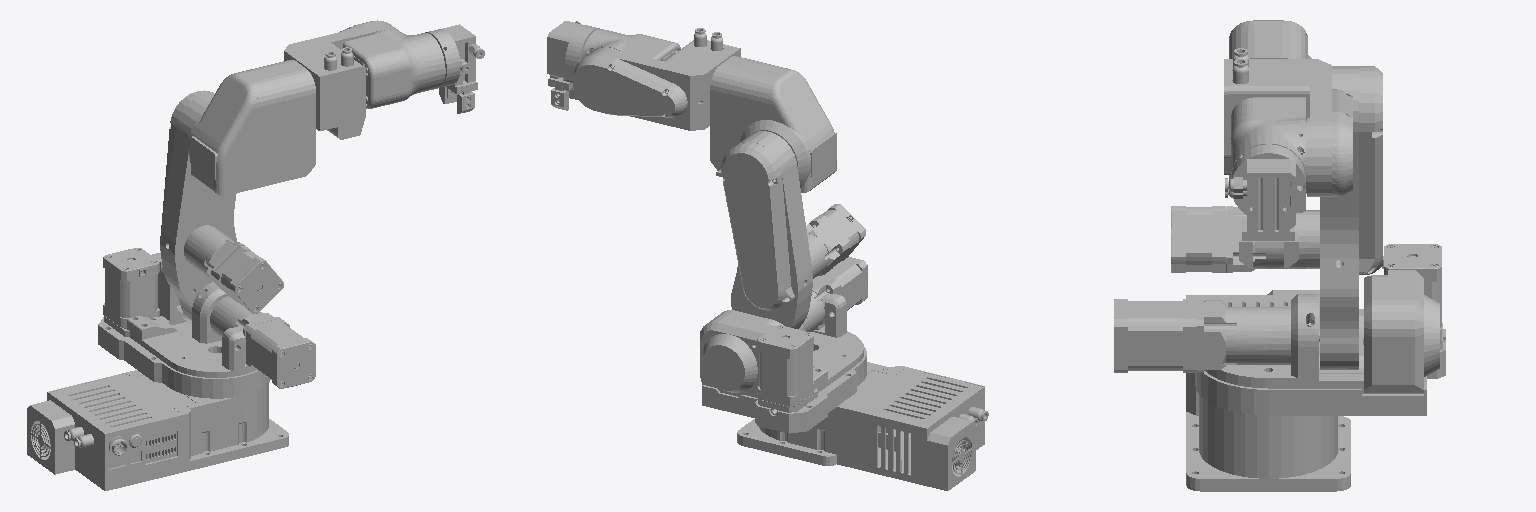
robot.urdf — PAROL6:
<?xml version="1.0" encoding="utf-8"?>
<!-- This URDF was automatically created by SolidWorks to URDF Exporter! Originally created by [author] ([email redacted]) 
     Commit Version: 1.6.0-4-g7f85cfe  Build Version: 1.6.7995.38578
     For more information, please see http://wiki.ros.org/sw_urdf_exporter -->
<robot
  name="PAROL6">
  <link
    name="base_link">
    <inertial>
      <origin
        xyz="-0.0274562034602567 -0.00137265400595656 0.031237920982338"
        rpy="0 0 0" />
      <mass
        value="0.812661291810144" />
      <inertia
        ixx="0.00110740279540382"
        ixy="4.67463481205112E-05"
        ixz="8.47873933528831E-06"
        iyy="0.00106582362830227"
        iyz="-2.6194130573118E-06"
        izz="0.00147883396699374" />
    </inertial>
    <visual>
      <origin
        xyz="0 0 0"
        rpy="0 0 0" />
      <geometry>
        <mesh
          filename="package://PAROL6/meshes/base_link.STL" />
      </geometry>
      <material
        name="">
        <color
          rgba="0.752941176470588 0.752941176470588 0.752941176470588 1" />
      </material>
    </visual>
    <collision>
      <origin
        xyz="0 0 0"
        rpy="0 0 0" />
      <geometry>
        <mesh
          filename="package://PAROL6/meshes/base_link.STL" />
      </geometry>
    </collision>
  </link>
  <link
    name="L1">
    <inertial>
      <origin
        xyz="0.00524529891406311 0.0289722820784871 0.0992791429452917"
        rpy="0 0 0" />
      <mass
        value="0.644800830530233" />
      <inertia
        ixx="0.00109429409029172"
        ixy="-6.27156874097953E-05"
        ixz="-5.70466862844753E-05"
        iyy="0.00056996197700816"
        iyz="-0.000121686402940313"
        izz="0.00129487722474286" />
    </inertial>
    <visual>
      <origin
        xyz="0 0 0"
        rpy="0 0 0" />
      <geometry>
        <mesh
          filename="package://PAROL6/meshes/L1.STL" />
      </geometry>
      <material
        name="">
        <color
          rgba="0.752941176470588 0.752941176470588 0.752941176470588 1" />
      </material>
    </visual>
    <collision>
      <origin
        xyz="0 0 0"
        rpy="0 0 0" />
      <geometry>
        <mesh
          filename="package://PAROL6/meshes/L1.STL" />
      </geometry>
    </collision>
  </link>
  <joint
    name="L1"
    type="revolute">
    <origin
      xyz="0 0 0"
      rpy="0 0 0" />
    <parent
      link="base_link" />
    <child
      link="L1" />
    <axis
      xyz="0 0 1" />
    <limit
      lower="0"
      upper="0"
      effort="0"
      velocity="0" />
  </joint>
  <link
    name="L2">
    <inertial>
      <origin
        xyz="-0.0094181617193695 -0.0783879603613605 0.0369429741417731"
        rpy="0 0 0" />
      <mass
        value="0.512334779399788" />
      <inertia
        ixx="0.00123357482646866"
        ixy="3.63236238096924E-06"
        ixz="-3.30834557934783E-07"
        iyy="0.000205462733796053"
        iyz="4.86441772103282E-07"
        izz="0.00132225033266162" />
    </inertial>
    <visual>
      <origin
        xyz="0 0 0"
        rpy="0 0 0" />
      <geometry>
        <mesh
          filename="package://PAROL6/meshes/L2.STL" />
      </geometry>
      <material
        name="">
        <color
          rgba="0.752941176470588 0.752941176470588 0.752941176470588 1" />
      </material>
    </visual>
    <collision>
      <origin
        xyz="0 0 0"
        rpy="0 0 0" />
      <geometry>
        <mesh
          filename="package://PAROL6/meshes/L2.STL" />
      </geometry>
    </collision>
  </link>
  <joint
    name="L2"
    type="revolute">
    <origin
      xyz="0.0234207210610375 0 0.1105"
      rpy="-1.5707963267949 0 0" />
    <parent
      link="L1" />
    <child
      link="L2" />
    <axis
      xyz="0 0 1" />
    <limit
      lower="0"
      upper="0"
      effort="0"
      velocity="0" />
  </joint>
  <link
    name="L3">
    <inertial>
      <origin
        xyz="0.0155509885239593 -0.0191127686426613 -0.00153322577917236"
        rpy="0 0 0" />
      <mass
        value="0.550970997806044" />
      <inertia
        ixx="0.00057827573271994"
        ixy="0.000116505232322314"
        ixz="-1.19955293256513E-05"
        iyy="0.000567011676944701"
        iyz="1.55814255036021E-05"
        izz="0.000815862001506843" />
    </inertial>
    <visual>
      <origin
        xyz="0 0 0"
        rpy="0 0 0" />
      <geometry>
        <mesh
          filename="package://PAROL6/meshes/L3.STL" />
      </geometry>
      <material
        name="">
        <color
          rgba="0.752941176470588 0.752941176470588 0.752941176470588 1" />
      </material>
    </visual>
    <collision>
      <origin
        xyz="0 0 0"
        rpy="0 0 0" />
      <geometry>
        <mesh
          filename="package://PAROL6/meshes/L3.STL" />
      </geometry>
    </collision>
  </link>
  <joint
    name="L3"
    type="revolute">
    <origin
      xyz="0 -0.18 0"
      rpy="3.1416 0 -1.5708" />
    <parent
      link="L2" />
    <child
      link="L3" />
    <axis
      xyz="0 0 -1" />
    <limit
      lower="0"
      upper="0"
      effort="0"
      velocity="0" />
  </joint>
  <link
    name="L4">
    <inertial>
      <origin
        xyz="0.000947028430634433 -0.008978947112462 -0.0924798659827059"
        rpy="0 0 0" />
      <mass
        value="0.39346362633915" />
      <inertia
        ixx="0.000371672516830215"
        ixy="-1.05560000666389E-05"
        ixz="-1.56899445418326E-07"
        iyy="0.000332364226344361"
        iyz="-6.10397110934672E-05"
        izz="0.000250606789571909" />
    </inertial>
    <visual>
      <origin
        xyz="0 0 0"
        rpy="0 0 0" />
      <geometry>
        <mesh
          filename="package://PAROL6/meshes/L4.STL" />
      </geometry>
      <material
        name="">
        <color
          rgba="0.752941176470588 0.752941176470588 0.752941176470588 1" />
      </material>
    </visual>
    <collision>
      <origin
        xyz="0 0 0"
        rpy="0 0 0" />
      <geometry>
        <mesh
          filename="package://PAROL6/meshes/L4.STL" />
      </geometry>
    </collision>
  </link>
  <joint
    name="L4"
    type="revolute">
    <origin
      xyz="0.0435 0 0"
      rpy="1.5707963267949 0 3.14159265358979" />
    <parent
      link="L3" />
    <child
      link="L4" />
    <axis
      xyz="0 0 -1" />
    <limit
      lower="0"
      upper="0"
      effort="0"
      velocity="0" />
  </joint>
  <link
    name="L5">
    <inertial>
      <origin
        xyz="6.7162171684676E-06 -0.00621420980825221 -0.000960871025916146"
        rpy="0 0 0" />
      <mass
        value="0.185171777001718" />
      <inertia
        ixx="0.000109176748460021"
        ixy="-1.27195013439061E-07"
        ixz="8.4436049148633E-08"
        iyy="8.41307588934268E-05"
        iyz="-4.41596193640049E-07"
        izz="0.000110629136236229" />
    </inertial>
    <visual>
      <origin
        xyz="0 0 0"
        rpy="0 0 0" />
      <geometry>
        <mesh
          filename="package://PAROL6/meshes/L5.STL" />
      </geometry>
      <material
        name="">
        <color
          rgba="0.752941176470588 0.752941176470588 0.752941176470588 1" />
      </material>
    </visual>
    <collision>
      <origin
        xyz="0 0 0"
        rpy="0 0 0" />
      <geometry>
        <mesh
          filename="package://PAROL6/meshes/L5.STL" />
      </geometry>
    </collision>
  </link>
  <joint
    name="L5"
    type="revolute">
    <origin
      xyz="0 0 -0.17635"
      rpy="-1.5708 0 0" />
    <parent
      link="L4" />
    <child
      link="L5" />
    <axis
      xyz="0 0 -1" />
    <limit
      lower="0"
      upper="0"
      effort="0"
      velocity="0" />
  </joint>
  <link
    name="L6">
    <inertial>
      <origin
        xyz="0.00632955087228015 -0.000453856352095022 -0.0554441567386594"
        rpy="0 0 0" />
      <mass
        value="0.0703261410665101" />
      <inertia
        ixx="1.40276237518287E-05"
        ixy="3.15503246005279E-07"
        ixz="-9.28469598788221E-07"
        iyy="1.81406721166117E-05"
        iyz="-9.43630009030796E-07"
        izz="2.34608103291027E-05" />
    </inertial>
    <visual>
      <origin
        xyz="0 0 0"
        rpy="0 0 0" />
      <geometry>
        <mesh
          filename="package://PAROL6/meshes/L6.STL" />
      </geometry>
      <material
        name="">
        <color
          rgba="0.752941176470588 0.752941176470588 0.752941176470588 1" />
      </material>
    </visual>
    <collision>
      <origin
        xyz="0 0 0"
        rpy="0 0 0" />
      <geometry>
        <mesh
          filename="package://PAROL6/meshes/L6.STL" />
      </geometry>
    </collision>
  </link>
  <joint
    name="L6"
    type="continuous">
    <origin
      xyz="0 0 0"
      rpy="1.5708 0 0" />
    <parent
      link="L5" />
    <child
      link="L6" />
    <axis
      xyz="0 0 -1" />
    <limit
      lower="0"
      upper="0"
      effort="0"
      velocity="0" />
  </joint>
</robot>

--- What the picture shows (computed from the rendered views, not written in the file) ---
Views: 3 orthographic renders of the robot side by side, from view 1: azimuth 30°, elevation 25°; view 2: azimuth 150°, elevation 25°; view 3: azimuth 270°, elevation 25°.
Robot: PAROL6 — 7 links, 6 joints (5 revolute, 1 continuous); root link base_link; default pose: all joints at 0.
Links seen in each view (by area): view 1: base_link, L1, L3, L2, L4, L5, L6; view 2: L2, base_link, L1, L3, L4, L6, L5; view 3: L1, L2, base_link, L4, L6, L5, L3.
Link boxes in pixels (x1,y1,x2,y2): base_link: (27,370,288,490); L1: (98,248,315,398); L3: (188,60,315,195); L2: (160,90,283,320); L4: (284,20,398,139); L5: (343,30,445,108); L6: (425,24,484,113); L2: (702,131,865,392); base_link: (737,362,988,490); L1: (700,257,867,433); L3: (710,56,836,192); L4: (573,28,740,130); L6: (547,21,599,110); L5: (581,29,680,60); L1: (1114,244,1445,415); L2: (1171,66,1439,376); base_link: (1186,290,1350,491); L4: (1224,48,1352,196); L6: (1225,144,1305,267); L5: (1231,97,1305,172); L3: (1229,20,1311,179).
Bounding box of the posed robot: 0.4533 × 0.2382 × 0.3775 m (x, y, z).
7 mesh visuals loaded from 7 distinct referenced files (7 binary STL).
